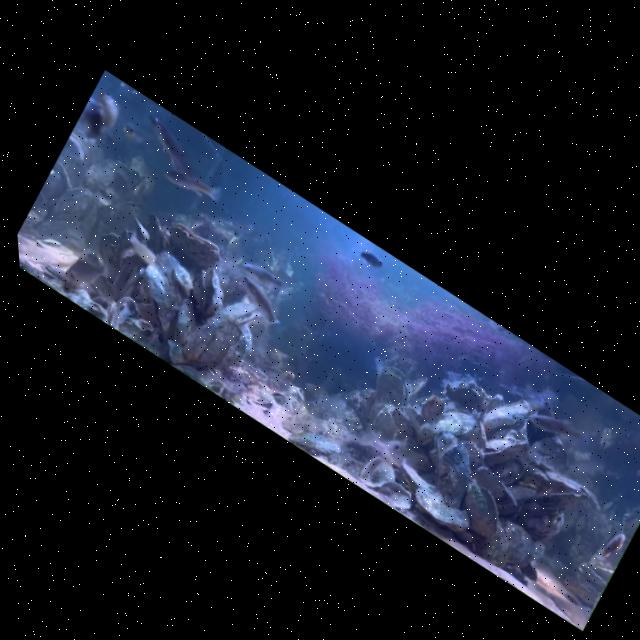Oyster-Closed: (119, 242, 208, 344), (407, 421, 493, 514), (409, 390, 481, 469), (475, 380, 545, 455), (406, 479, 476, 541), (195, 314, 250, 383), (483, 513, 542, 574), (476, 419, 533, 482), (39, 253, 103, 306), (175, 306, 226, 369), (159, 293, 209, 355), (391, 457, 451, 507), (474, 516, 524, 573), (456, 404, 502, 454), (121, 216, 162, 257)
Oyster-Indeterminate: (42, 175, 104, 249), (524, 454, 594, 510), (78, 223, 138, 288), (534, 472, 591, 530), (213, 320, 264, 384), (439, 368, 497, 424), (133, 210, 182, 262), (35, 158, 81, 213), (486, 441, 534, 493), (467, 460, 512, 505), (450, 433, 494, 479), (373, 474, 419, 517), (187, 212, 234, 254), (102, 290, 144, 337), (500, 470, 542, 512), (413, 388, 451, 430), (384, 406, 422, 441)
Oyster-Open: (447, 472, 516, 546), (160, 217, 227, 278), (181, 261, 237, 324), (365, 356, 423, 416), (354, 449, 403, 500), (217, 288, 265, 338), (58, 130, 100, 172), (267, 386, 294, 412)
